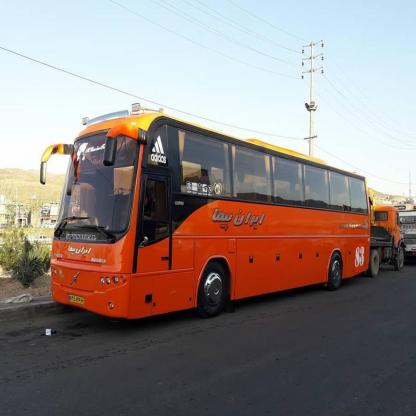Bus: (46, 110, 372, 318)
Truck: (366, 202, 408, 272)
